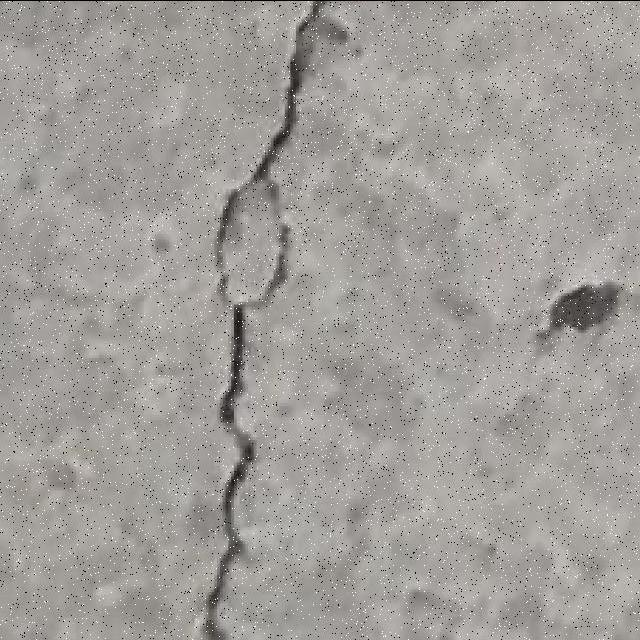crack: (197, 2, 330, 636)
